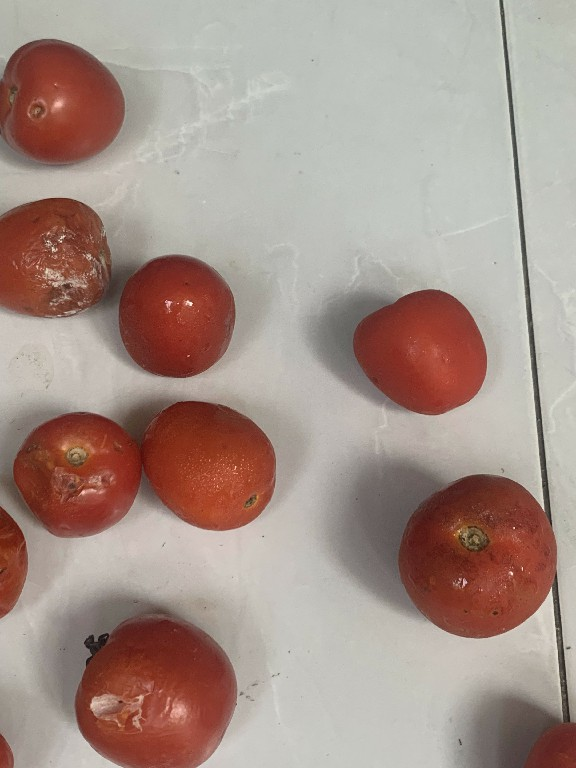NG: (63, 607, 244, 767), (7, 406, 139, 538), (1, 32, 122, 173), (0, 188, 115, 324)
OK: (399, 470, 559, 644), (339, 285, 491, 419), (134, 392, 281, 529), (116, 250, 234, 381)
